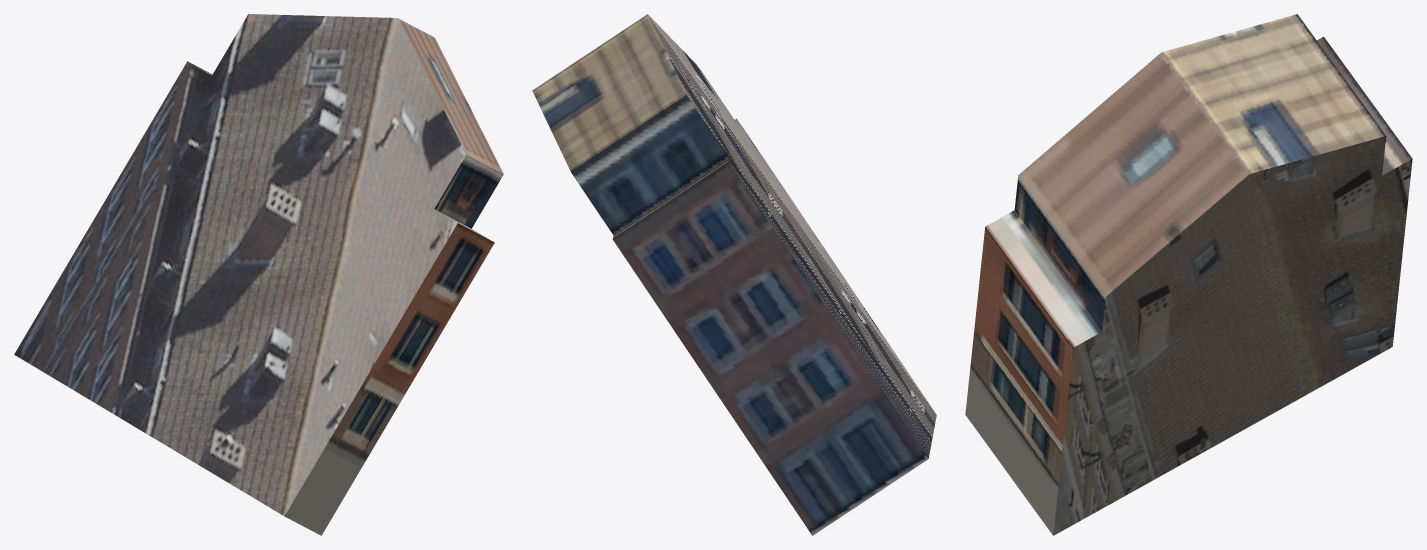
The picture shows the model from 3 angles, left to right: view 1: azimuth 30°, elevation 25°; view 2: azimuth 150°, elevation 25°; view 3: azimuth 270°, elevation 25°; orthographic projection. The views are drawn at different scales.
Visible parts, largest first — view 1: BAG_0599100000650045 (×2); view 2: BAG_0599100000650045 (×2); view 3: BAG_0599100000650045 (×2).
Part boxes in pixels (<box>): BAG_0599100000650045 (×2): <box>14,14,503,535</box>; BAG_0599100000650045 (×2): <box>532,14,936,535</box>; BAG_0599100000650045 (×2): <box>965,14,1412,535</box>.
Size of the model in its own units: 17.26 by 18.42 by 13.44.
1 material, 1 textured.
